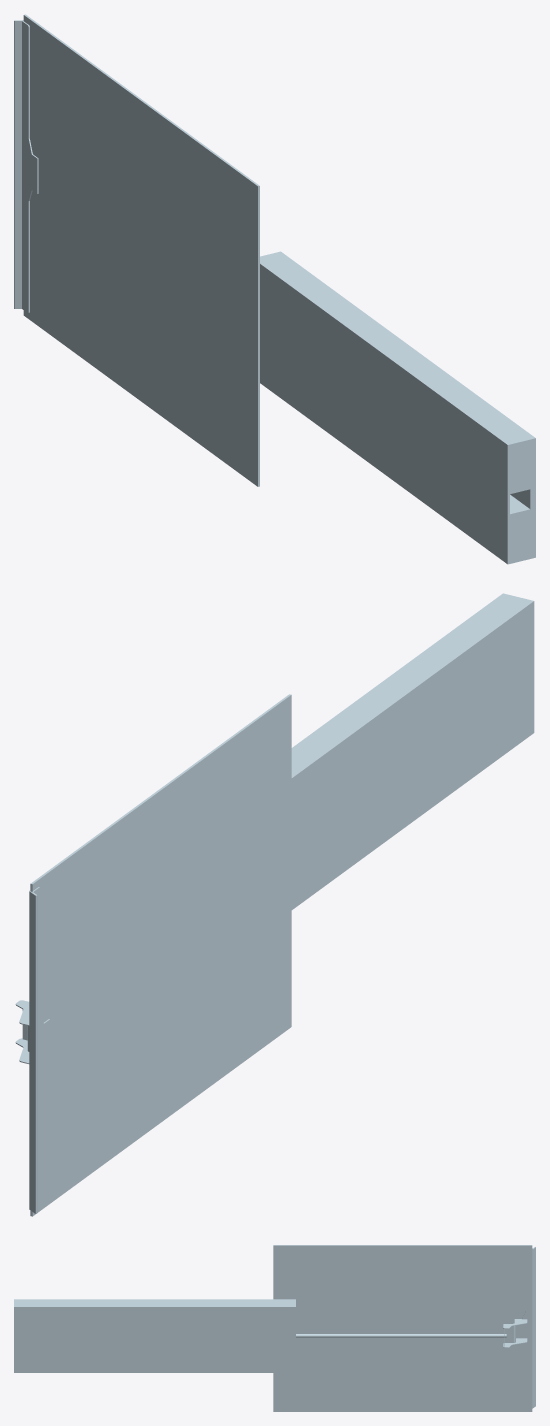
File: auto_window.glb
3 renders of one model, top to bottom at view 1: azimuth 30°, elevation 25°; view 2: azimuth 150°, elevation 25°; view 3: azimuth 270°, elevation 25°, orthographic. The views are drawn at different scales.
Parts seen in each view (by area): view 1: geometry_0; view 2: geometry_0; view 3: geometry_0.
Part boxes in pixels (x1,y1,x2,y2): geometry_0: (14, 14, 535, 564); geometry_0: (15, 593, 534, 1216); geometry_0: (14, 1245, 535, 1411).
Size of the model in its own units: 113 by 648 by 1844.
